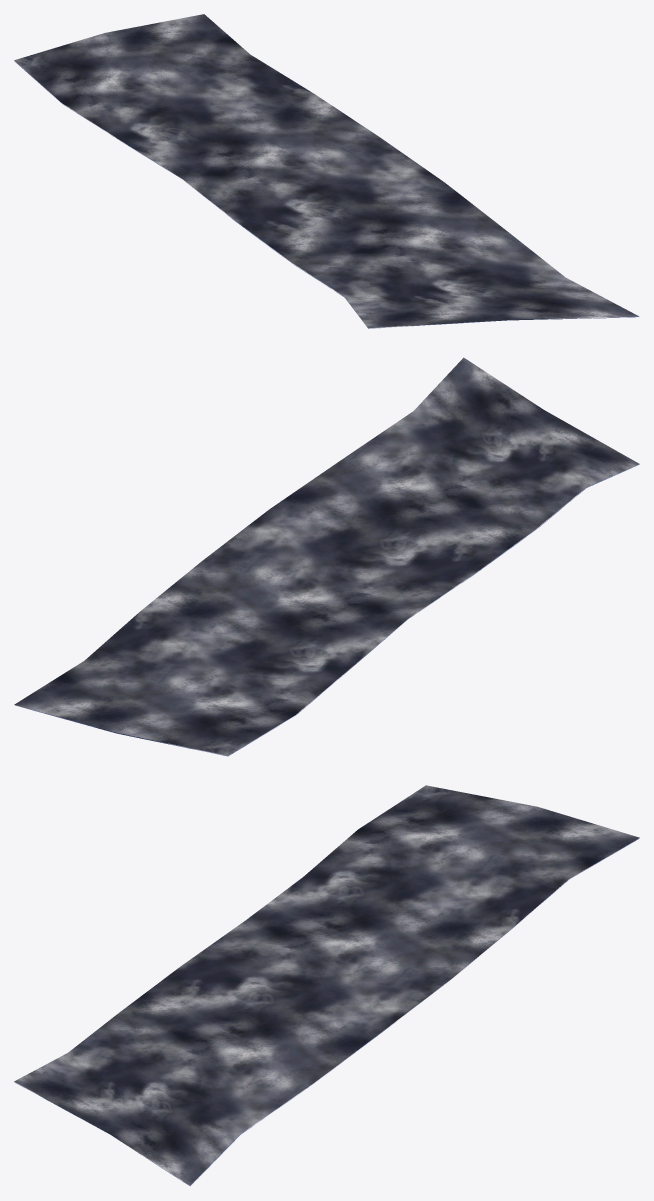
File: LONE_MOUNTAIN_WATERFALLS_MAIN_WATER_COOLER02.fbx
The picture shows the model from 3 angles, top to bottom: view 1: azimuth 30°, elevation 25°; view 2: azimuth 150°, elevation 25°; view 3: azimuth 330°, elevation 25°; orthographic projection. The views are drawn at different scales.
Parts seen in each view (by area): view 1: LONE_MOUNTAIN_WATERFALLS_MAIN_WATER_COOLER02; view 2: LONE_MOUNTAIN_WATERFALLS_MAIN_WATER_COOLER02; view 3: LONE_MOUNTAIN_WATERFALLS_MAIN_WATER_COOLER02.
Part boxes in pixels (x1,y1,x2,y2): LONE_MOUNTAIN_WATERFALLS_MAIN_WATER_COOLER02: (14, 14, 639, 328); LONE_MOUNTAIN_WATERFALLS_MAIN_WATER_COOLER02: (14, 357, 639, 756); LONE_MOUNTAIN_WATERFALLS_MAIN_WATER_COOLER02: (14, 785, 639, 1186).
Bounding box in the file's own units: 45767 × 949 × 156212.
Materials: 2 (2 with a texture image).
